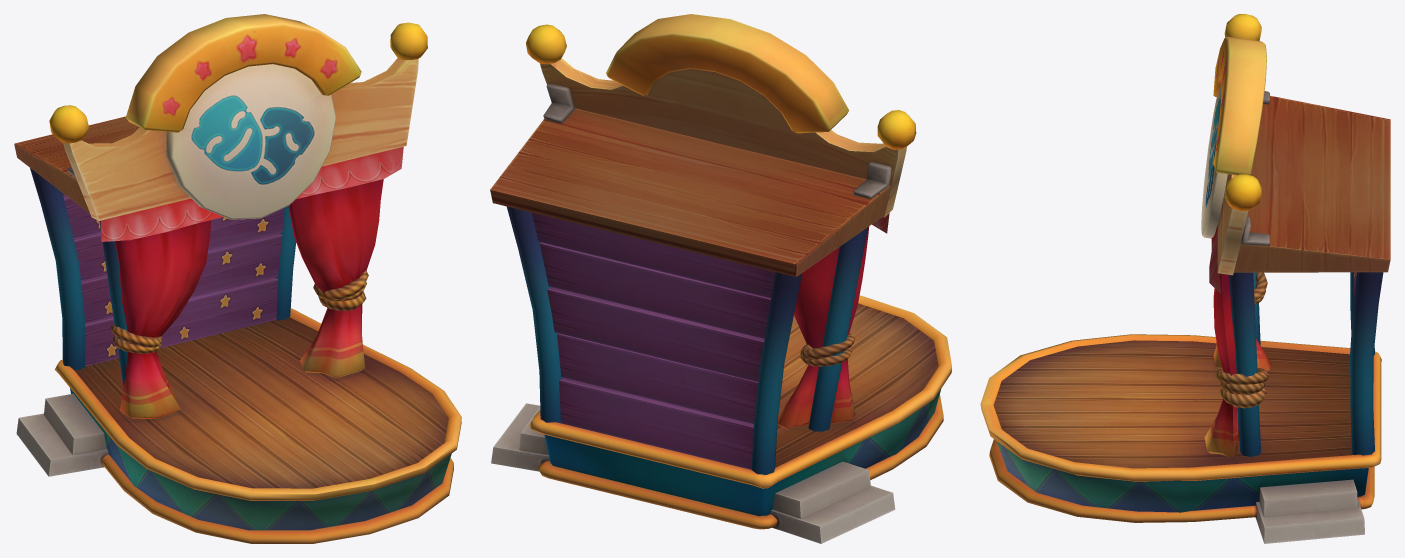
File: SE_Theater_01.fbx
3 renders of one model, left to right at view 1: azimuth 30°, elevation 25°; view 2: azimuth 150°, elevation 25°; view 3: azimuth 270°, elevation 25°, orthographic. The views are drawn at different scales.
Visible parts, largest first — view 1: SE_Theater_01; view 2: SE_Theater_01; view 3: SE_Theater_01.
Part boxes in pixels (x1,y1,x2,y2): SE_Theater_01: (14, 14, 461, 543); SE_Theater_01: (490, 14, 951, 543); SE_Theater_01: (980, 14, 1390, 543).
Size of the model in its own units: 10.27 by 11.01 by 10.08.
